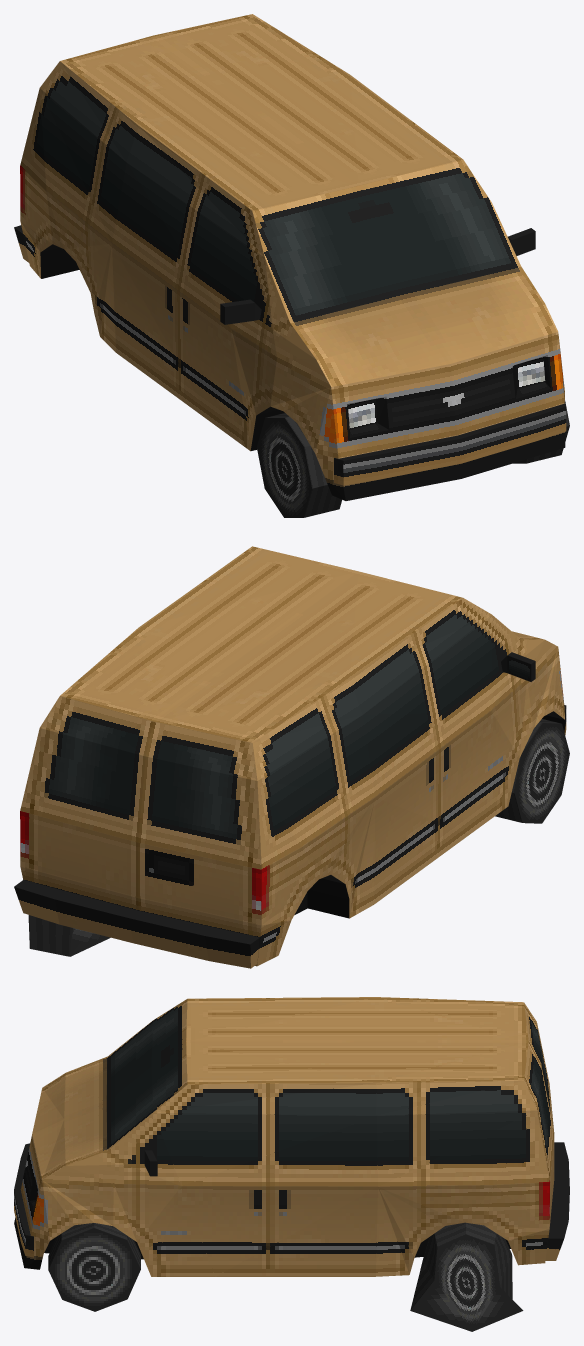
File: Car4.glb
3 views of the same model, one above another, from view 1: azimuth 30°, elevation 25°; view 2: azimuth 150°, elevation 25°; view 3: azimuth 270°, elevation 25° (orthographic). The views are drawn at different scales.
Parts seen in each view (by area): view 1: Car4; view 2: Car4; view 3: Car4.
Boxes of the visible parts, <box> form: Car4: <box>14,14,569,517</box>; Car4: <box>14,546,569,968</box>; Car4: <box>14,997,569,1331</box>.
Bounding box in the file's own units: 3.42 × 2.84 × 6.3.
Materials: 1 (1 with a texture image).
